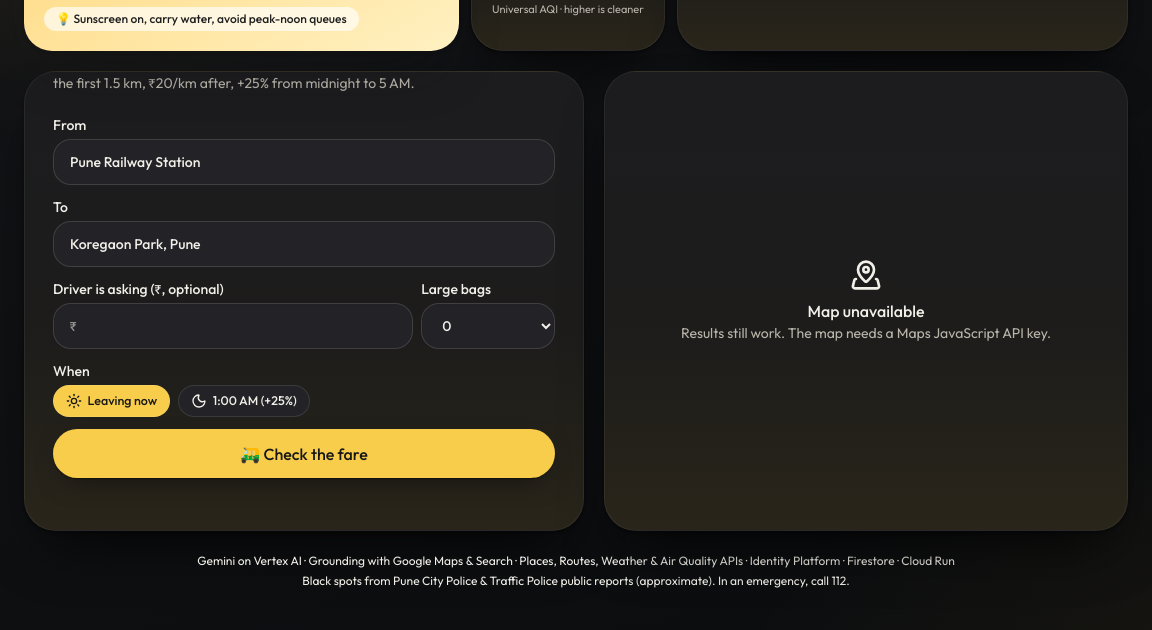
Test: Preferences › checks a fair fare and shows what to tell the driver
(page scrolled)
Click the button "🛺 Check the fare": x=304, y=454 [53,430,555,478]
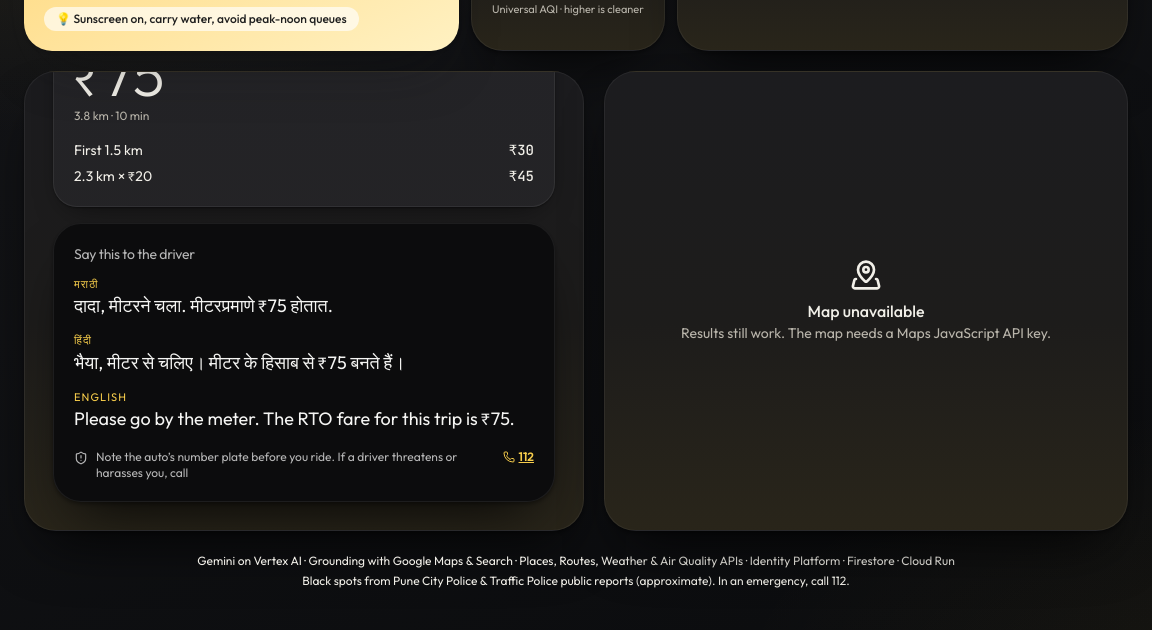
Result: the text "दादा, मीटरने चला. मीटरप्रमाणे ₹75 होतात." is shown at [74,294,333,317]
